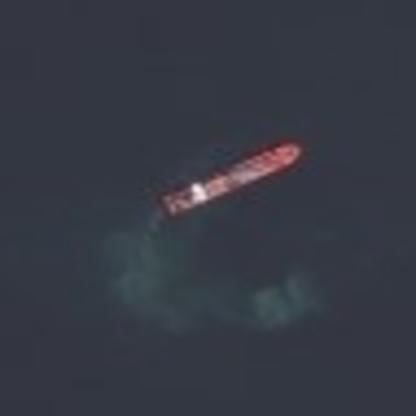ship: (151, 137, 306, 231)
